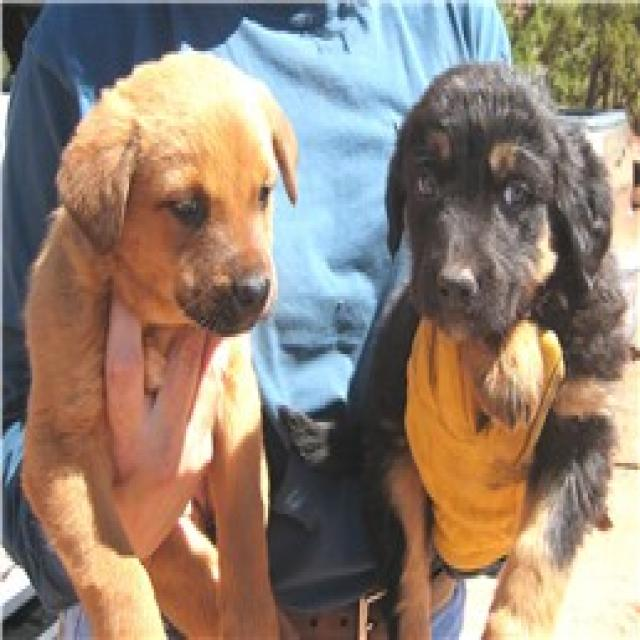Dogs: (278, 58, 635, 636), (17, 44, 298, 637)
